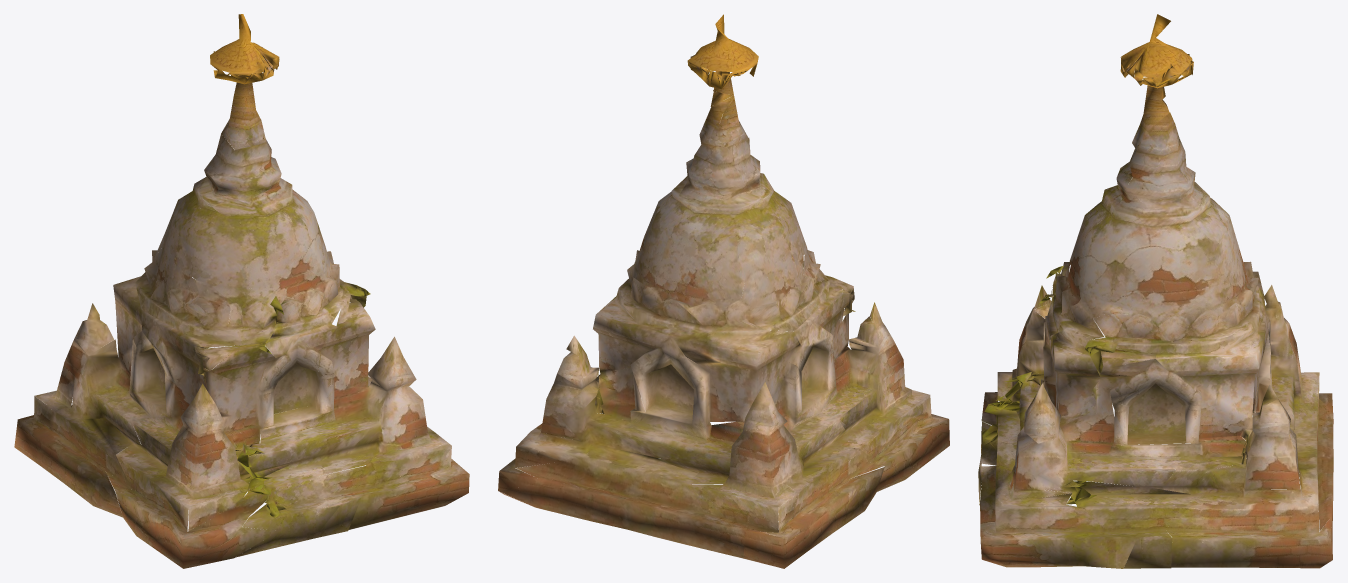
Rendered from p_stupa.glb.
3 views of the same model, side by side, from view 1: azimuth 30°, elevation 25°; view 2: azimuth 150°, elevation 25°; view 3: azimuth 270°, elevation 25° (orthographic). The views are drawn at different scales.
Visible parts, largest first — view 1: tripo_node_8f21d2e1-5fe1-4269-a2af-33462682df55; view 2: tripo_node_8f21d2e1-5fe1-4269-a2af-33462682df55; view 3: tripo_node_8f21d2e1-5fe1-4269-a2af-33462682df55.
Boxes of the visible parts, x1,y1,x2,y2 form: tripo_node_8f21d2e1-5fe1-4269-a2af-33462682df55: [14, 14, 469, 568]; tripo_node_8f21d2e1-5fe1-4269-a2af-33462682df55: [498, 14, 949, 568]; tripo_node_8f21d2e1-5fe1-4269-a2af-33462682df55: [978, 14, 1333, 568].
Bounding box in the file's own units: 0.6573 × 0.9993 × 0.6671.
Materials: 1 (1 with a texture image).
